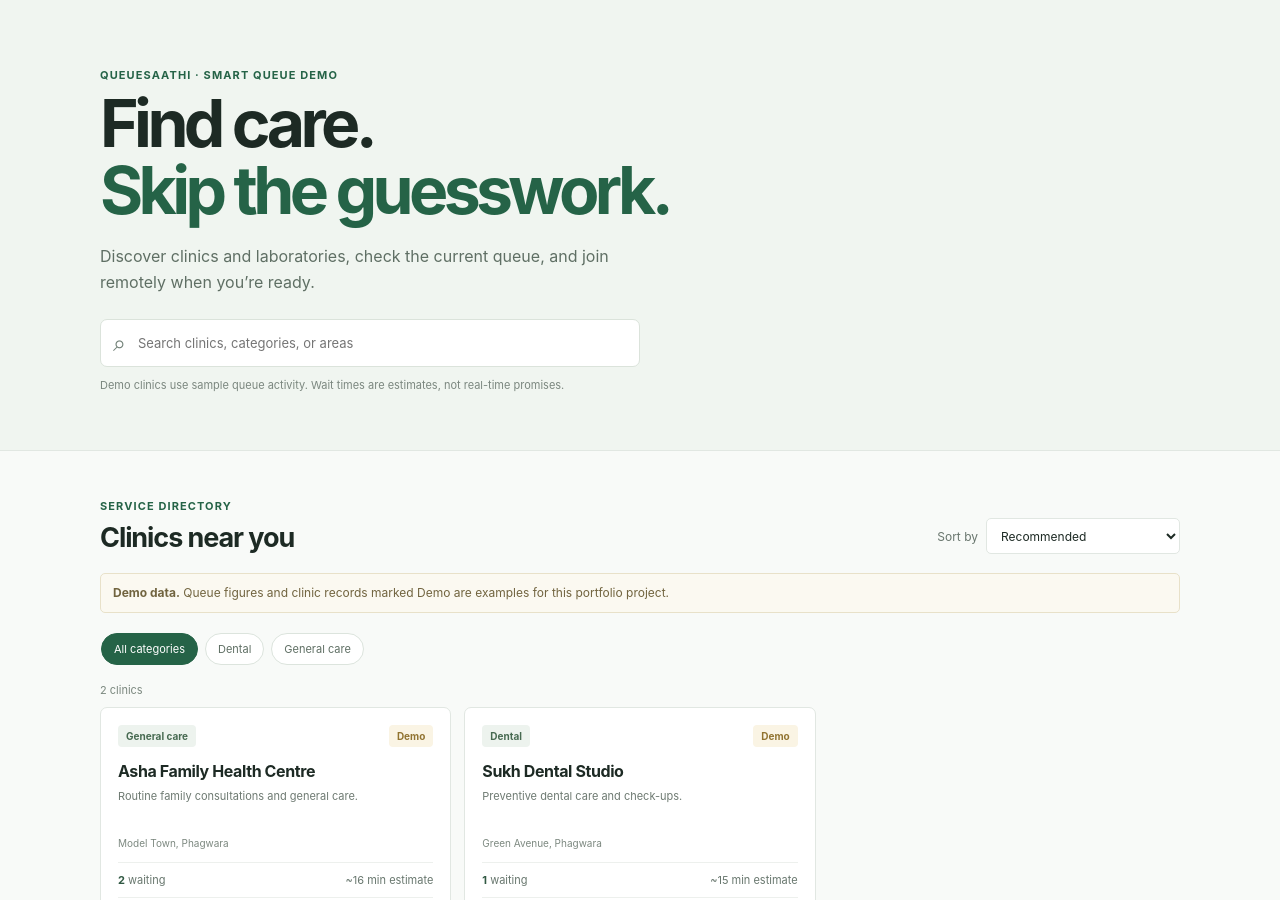
it: public clinic directory › searches clinic names, descriptions, and addresses
Check: the link "Asha Family Health Centre" is shown, box [118,761,315,781]
Type "Green Avenue" into the search field.
click(381, 343); type("Green Avenue")  # box [136,334,627,352]
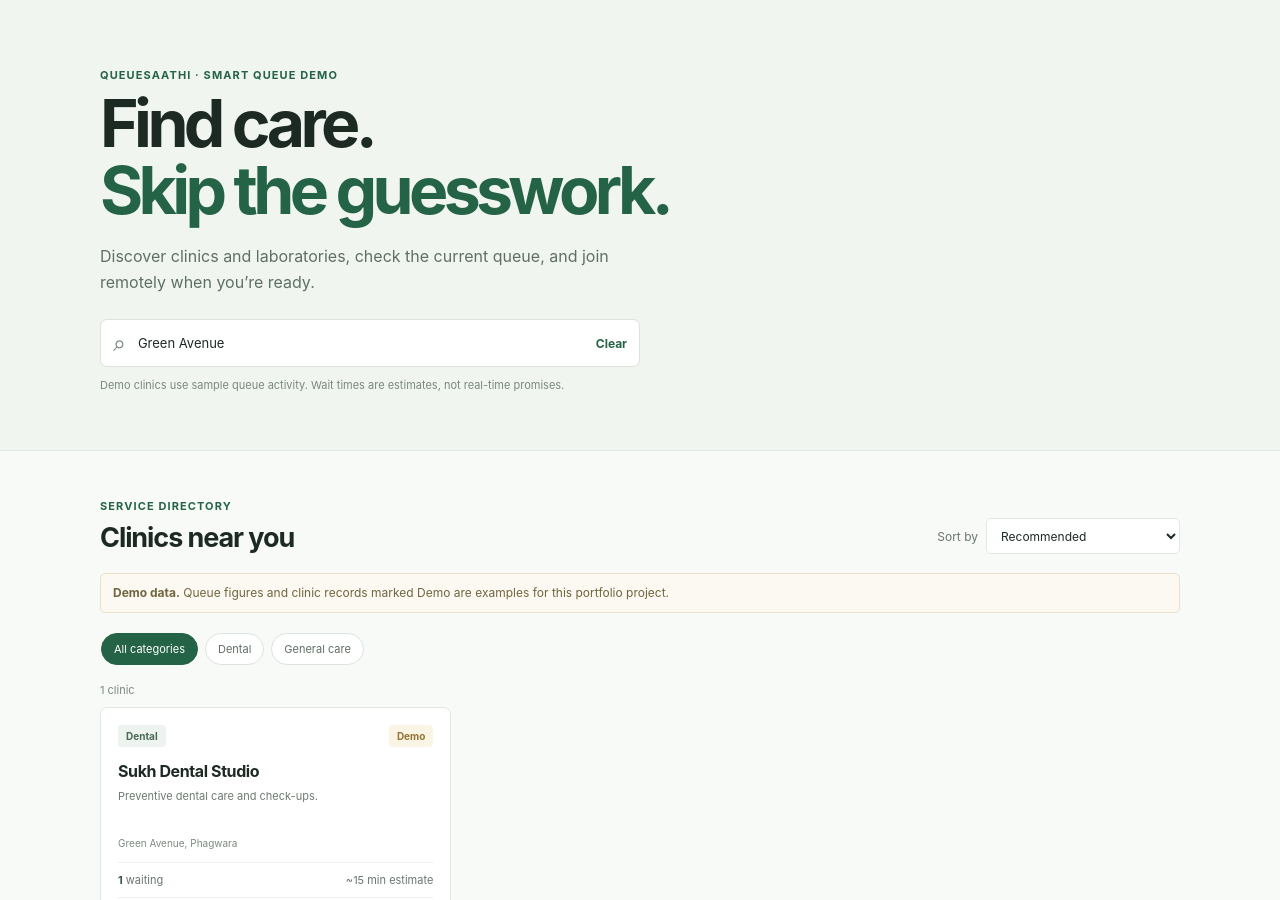
Check: the link "Sukh Dental Studio" is shown, box [118,761,259,781]
Check: the link "Asha Family Health Centre" is gone
